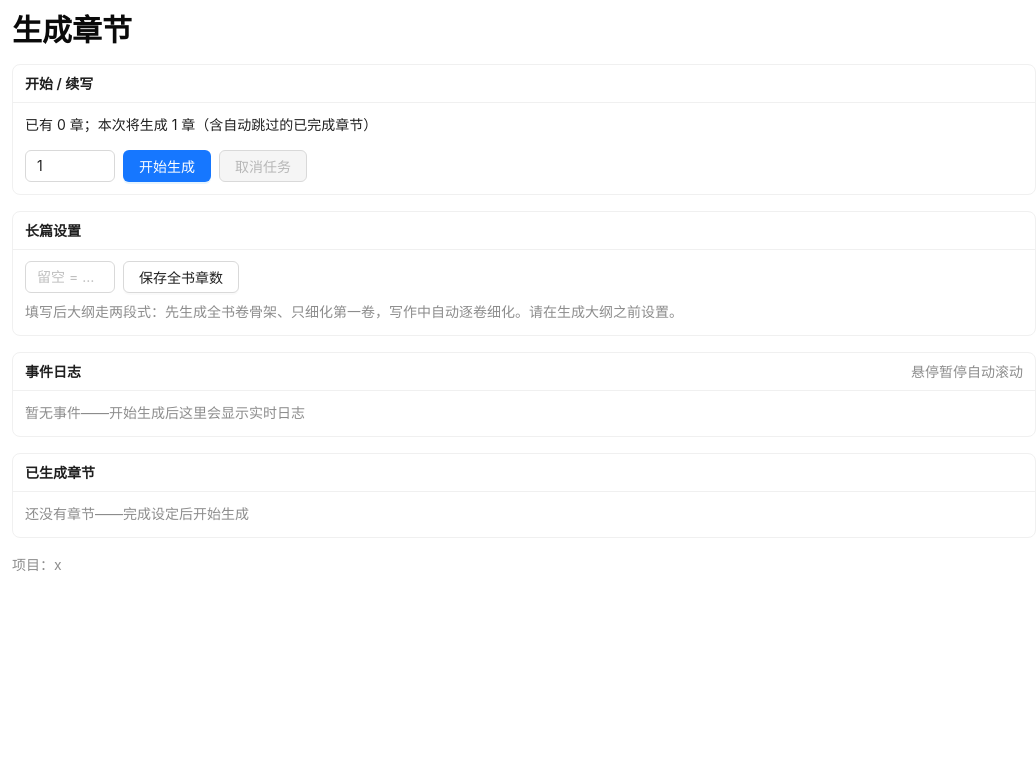
Generate: 409 shows an error message with 查看运行中任务 CTA
Click the button with test id "start-generate" at [167, 166], box left=123, top=150, right=211, bottom=182
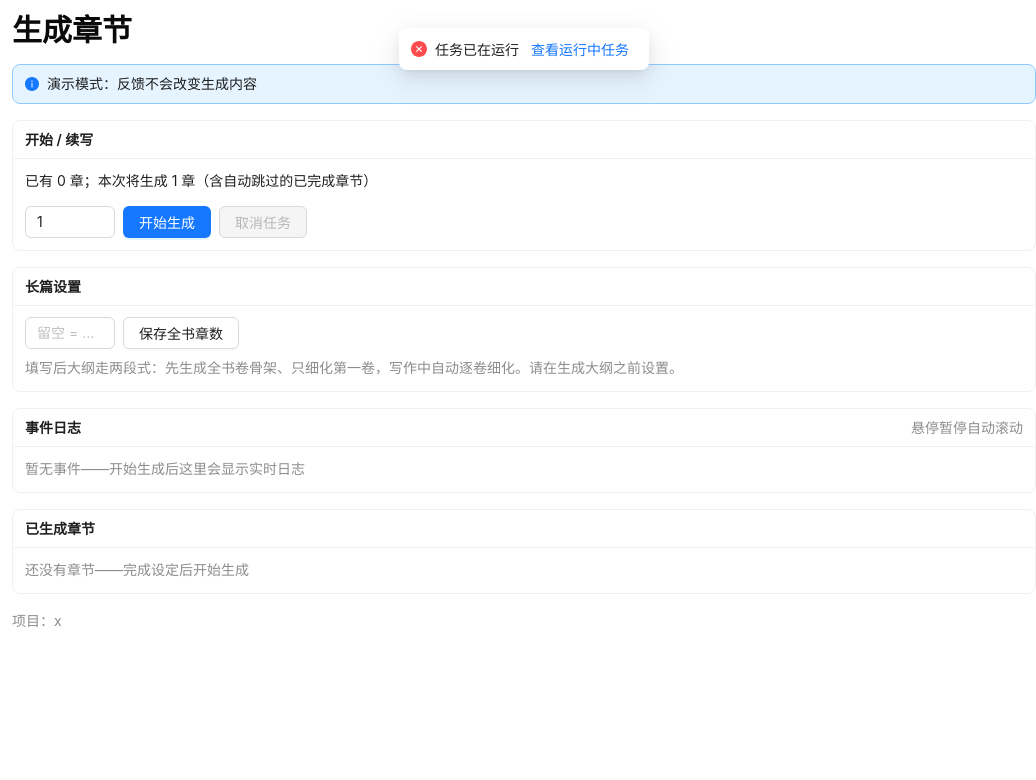
Result: the text "任务已在运行" is shown at left=435, top=41, right=519, bottom=58
Result: the text "查看运行中任务" is shown at left=531, top=39, right=629, bottom=59
